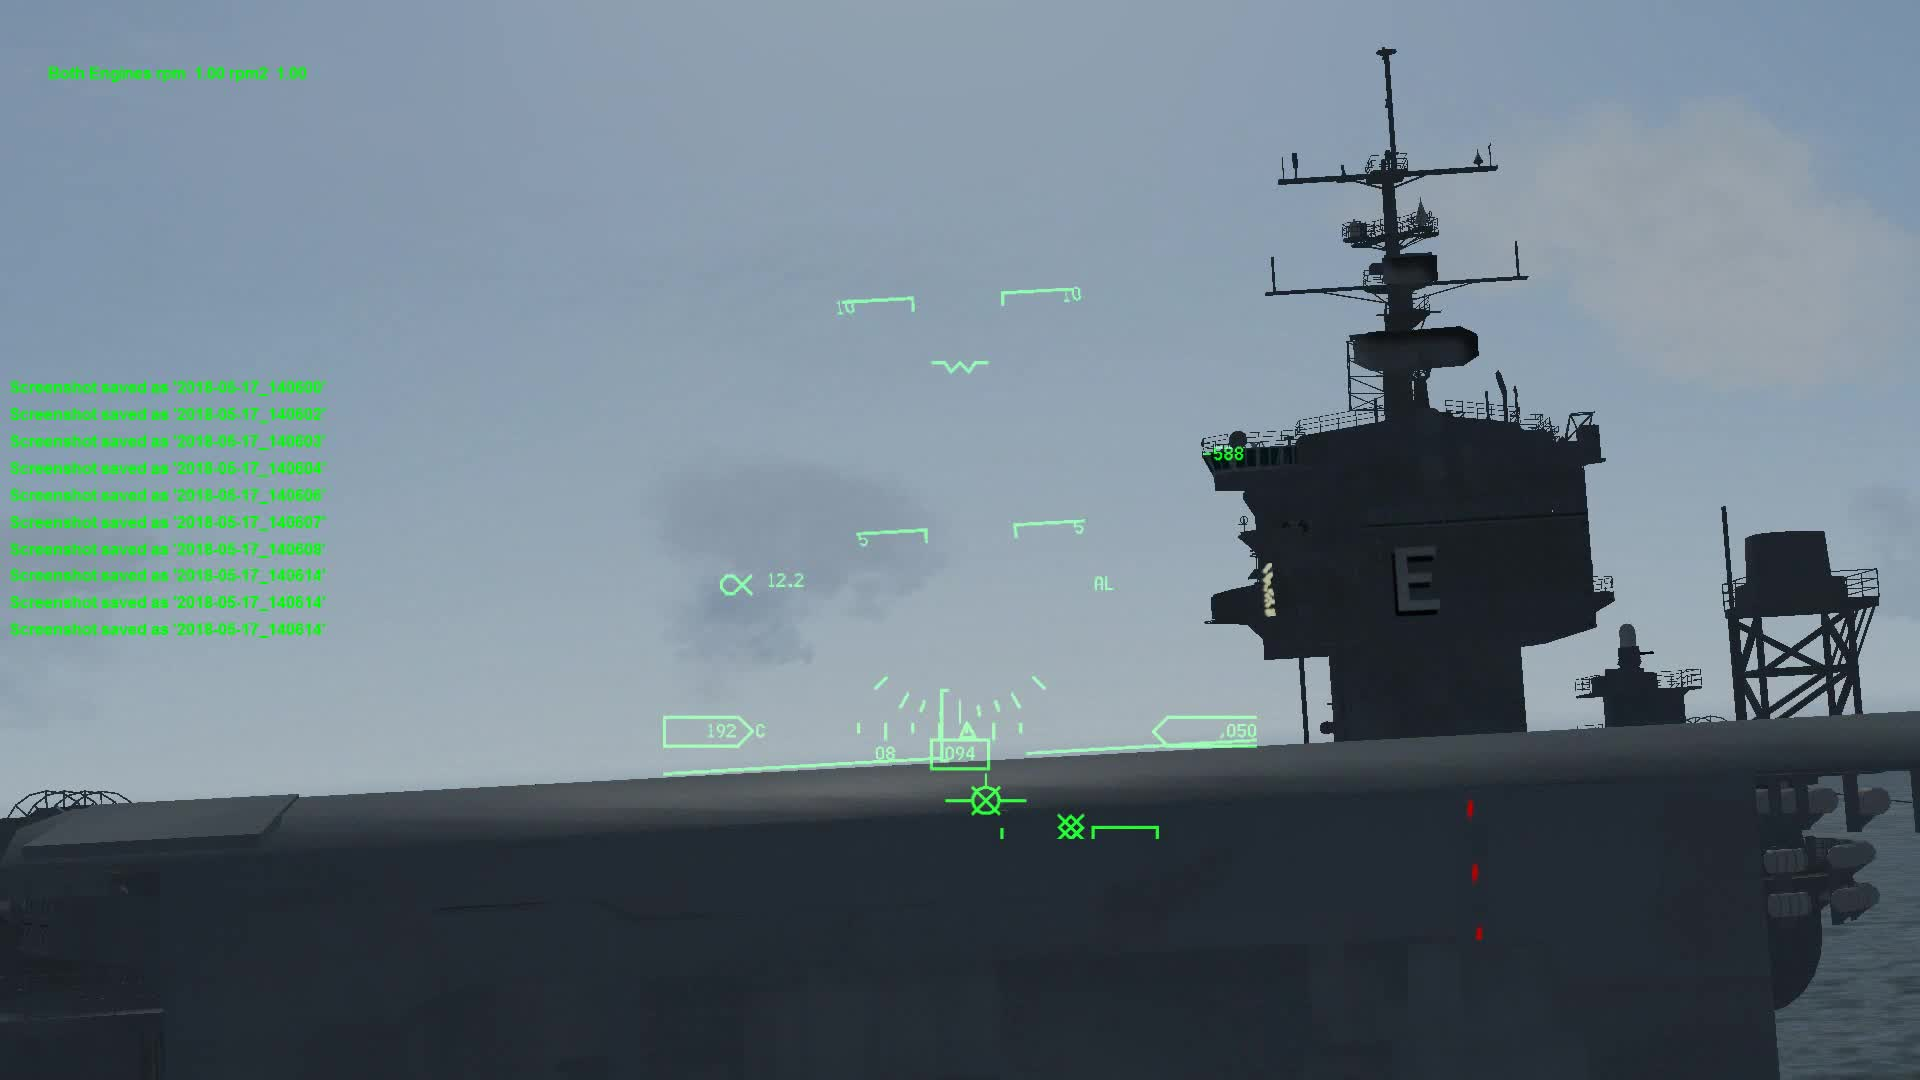speed vector: (935, 779, 1034, 822)
